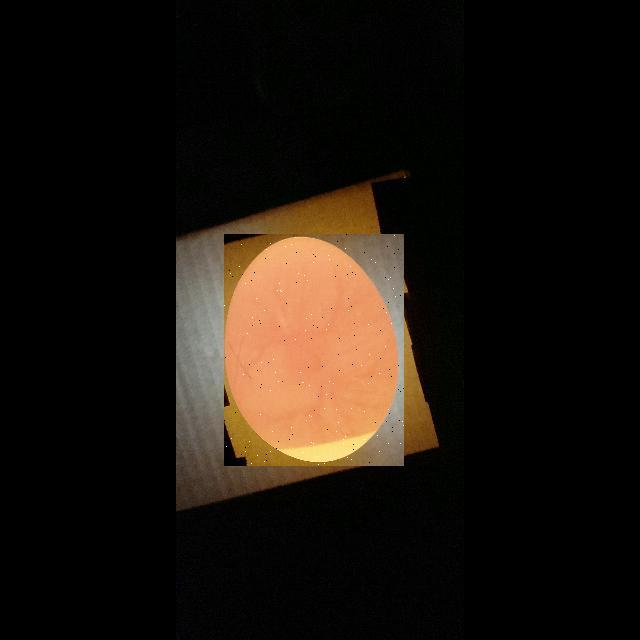Fertile: (224, 234, 404, 466)
